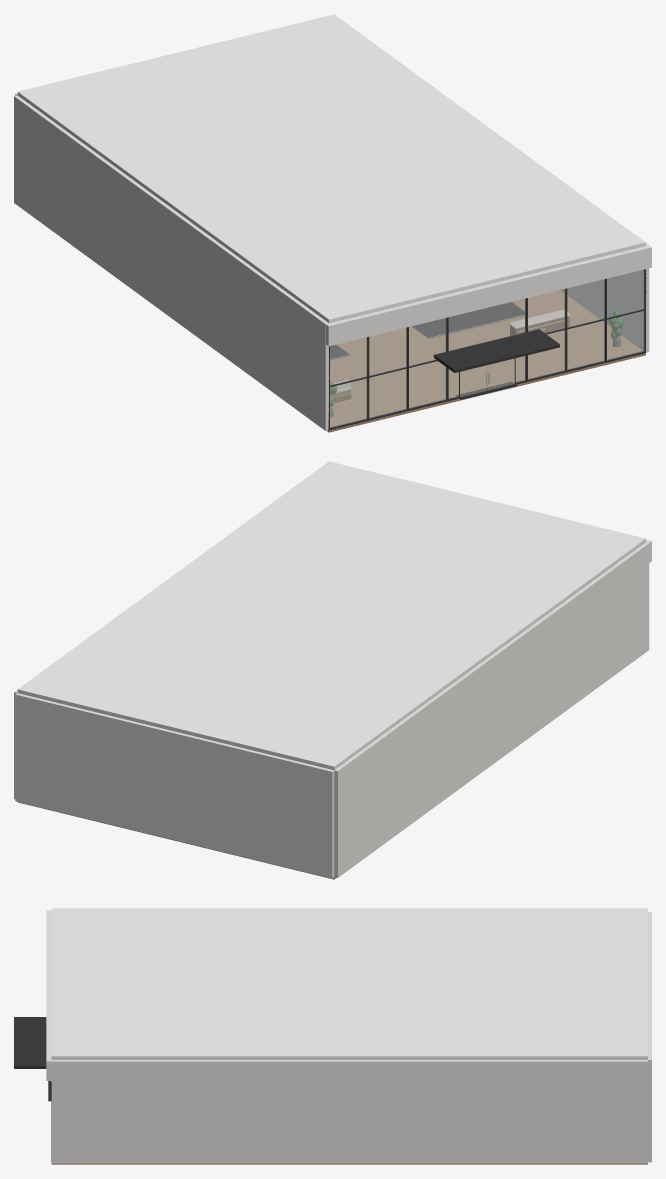
The model's file is marina.glb.
3 renders of one model, top to bottom at view 1: azimuth 30°, elevation 25°; view 2: azimuth 150°, elevation 25°; view 3: azimuth 270°, elevation 25°, orthographic. The views are drawn at different scales.
Parts seen in each view (by area): view 1: Venue, Door_L, Door_R; view 2: Venue; view 3: Venue.
Boxes of the visible parts, x1,y1,x2,y2 form: Venue: (14,14,651,432); Door_L: (459,365,487,397); Door_R: (487,358,515,390); Venue: (14,461,651,879); Venue: (14,908,651,1164).
Bounding box in the file's own units: 27.6 × 9.2 × 49.21.
